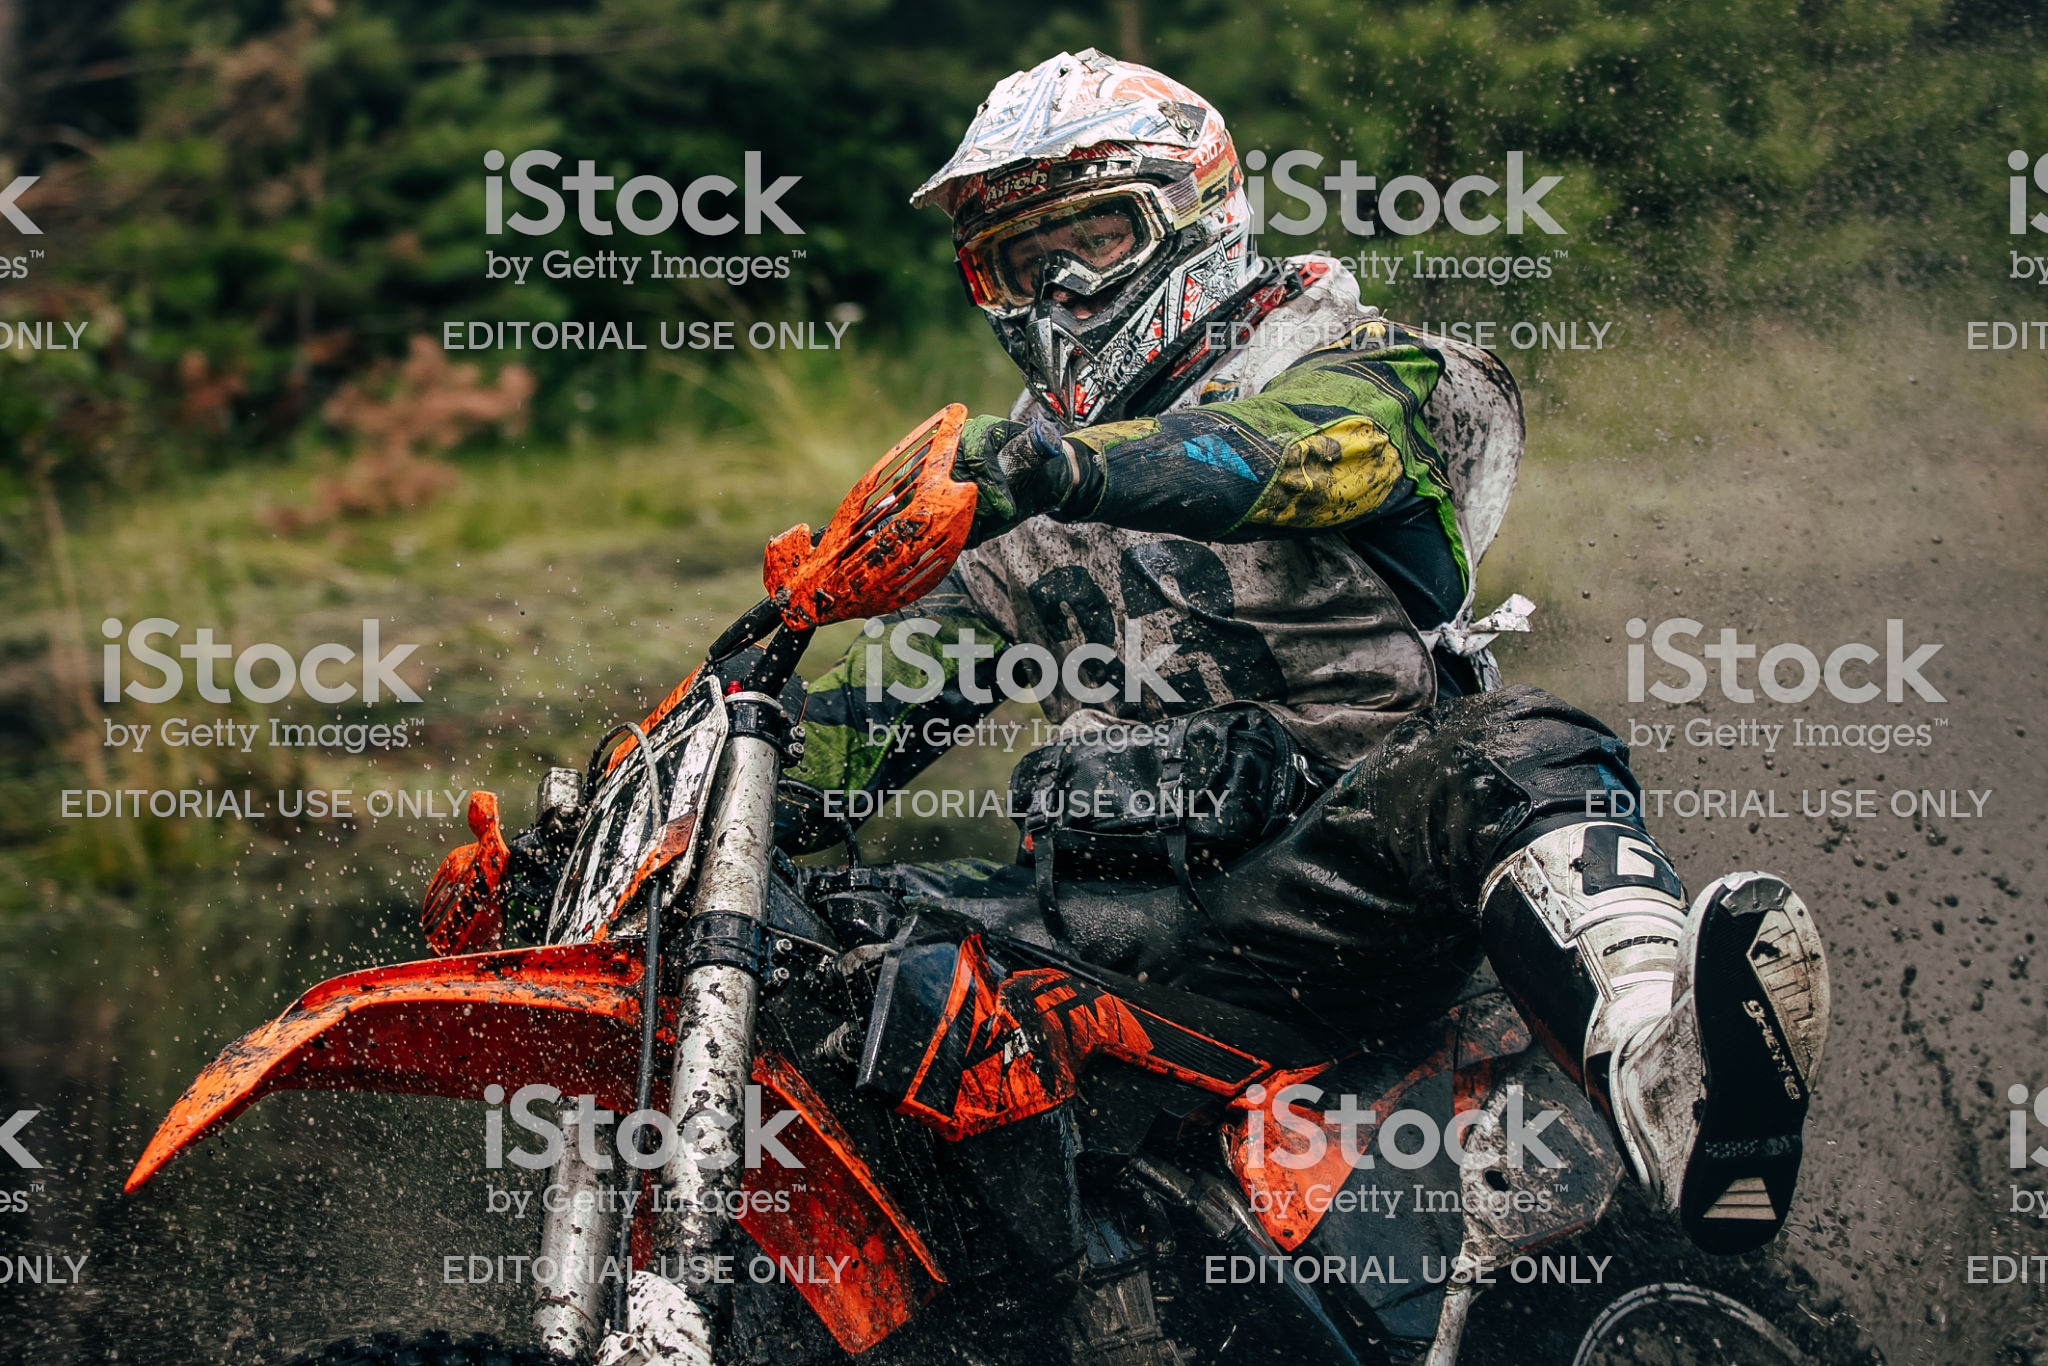helmet: (914, 73, 1231, 418)
